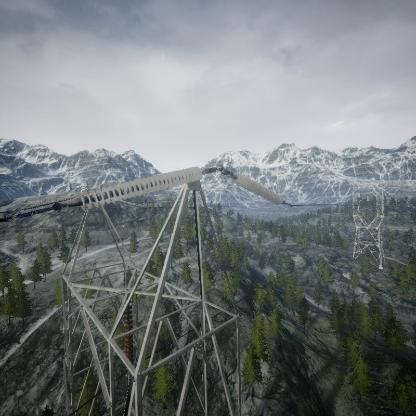insulator: (70, 163, 207, 212), (227, 170, 288, 207), (121, 304, 135, 374)
tower: (349, 179, 389, 275)
